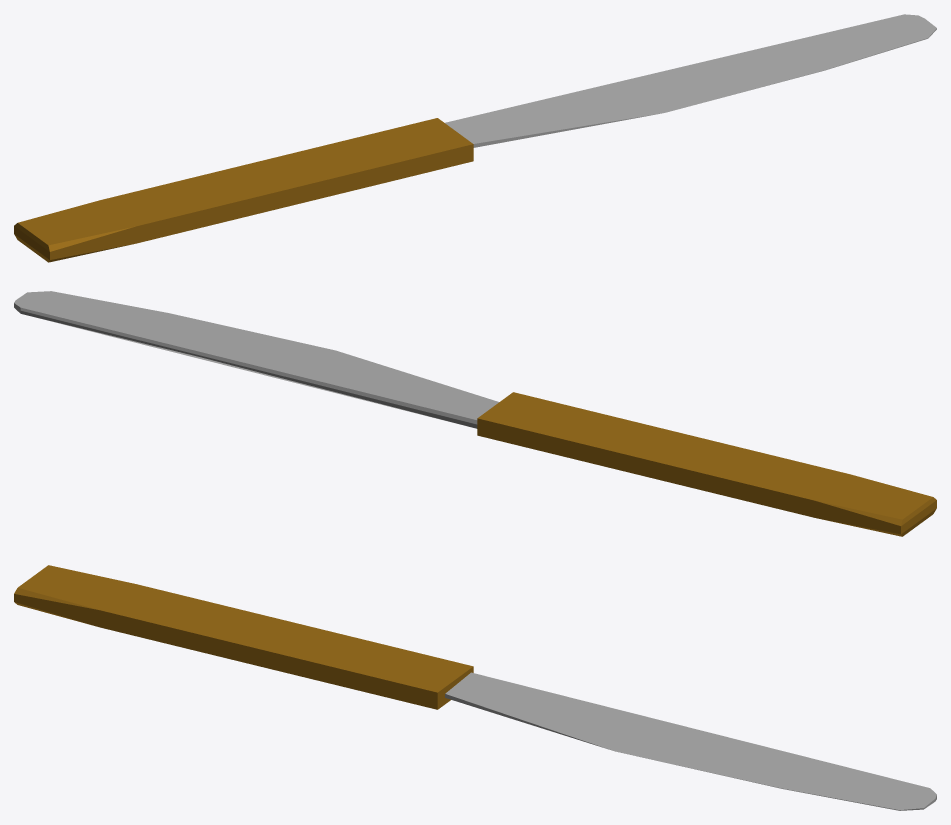
Rendered from tableknife01.obj.
3 views of the same model, one above another, from view 1: azimuth 30°, elevation 25°; view 2: azimuth 150°, elevation 25°; view 3: azimuth 330°, elevation 25° (orthographic).
Parts seen in each view (by area): view 1: Cube_Cube.001; view 2: Cube_Cube.001; view 3: Cube_Cube.001.
Boxes of the visible parts, x1,y1,x2,y2 form: Cube_Cube.001: (14, 14, 936, 262); Cube_Cube.001: (14, 291, 936, 536); Cube_Cube.001: (14, 565, 936, 810).
Bounding box in the file's own units: 0.2071 × 0.0038 × 0.0172.
